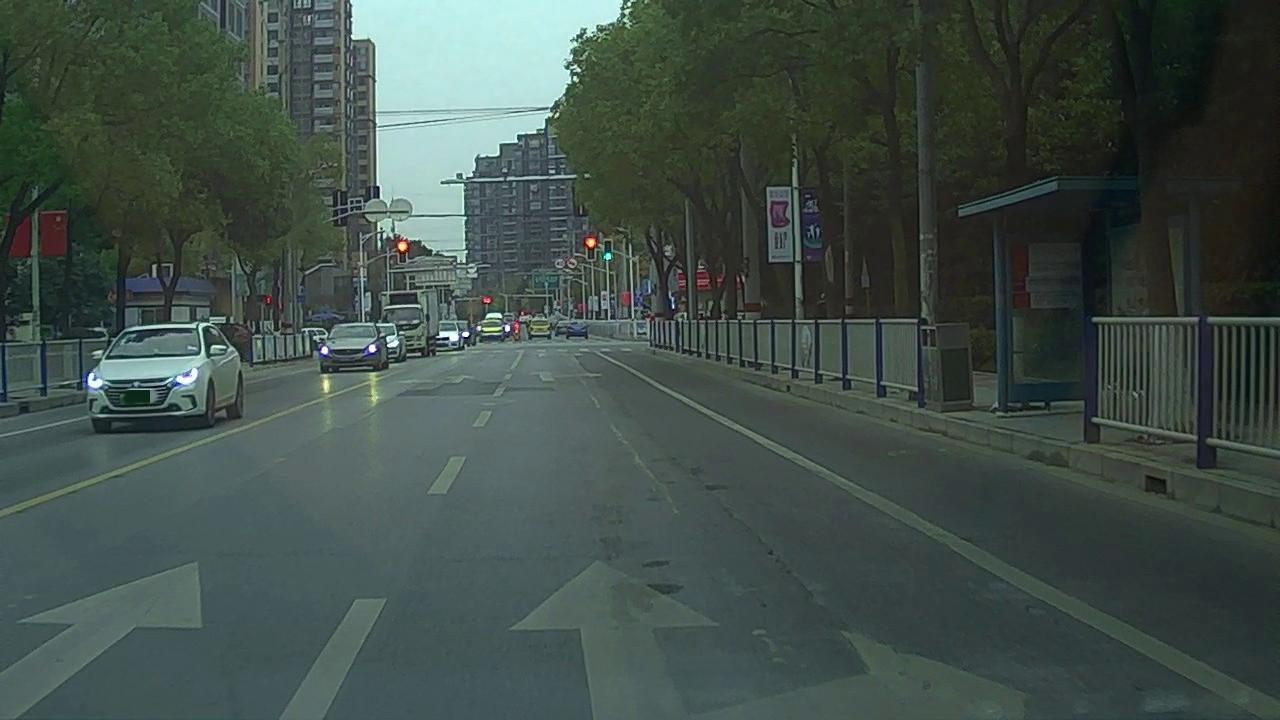traffic_light: (397, 241, 407, 263), (588, 238, 595, 260), (606, 241, 612, 260)
